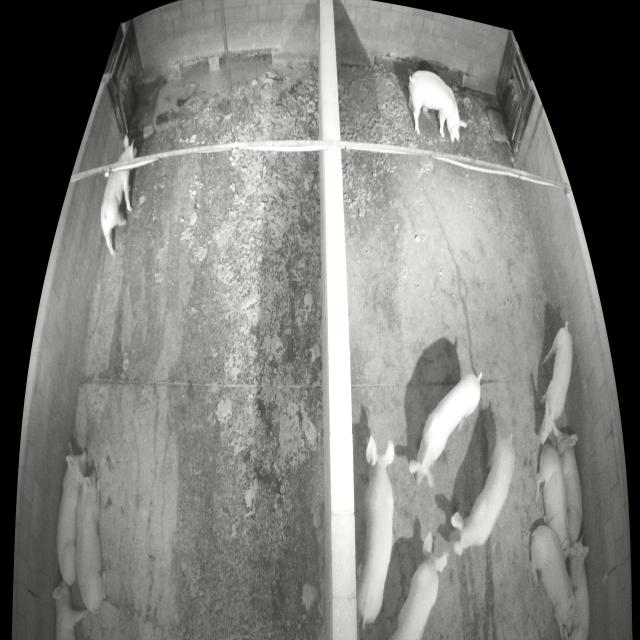pig: (409, 373, 480, 489), (448, 434, 515, 556), (356, 436, 395, 625), (389, 530, 448, 638), (528, 525, 582, 637), (100, 132, 137, 255), (56, 449, 88, 588), (75, 471, 106, 612), (408, 71, 467, 143), (538, 327, 572, 446), (535, 443, 573, 549), (556, 426, 584, 543), (564, 537, 591, 639), (52, 578, 88, 639)
